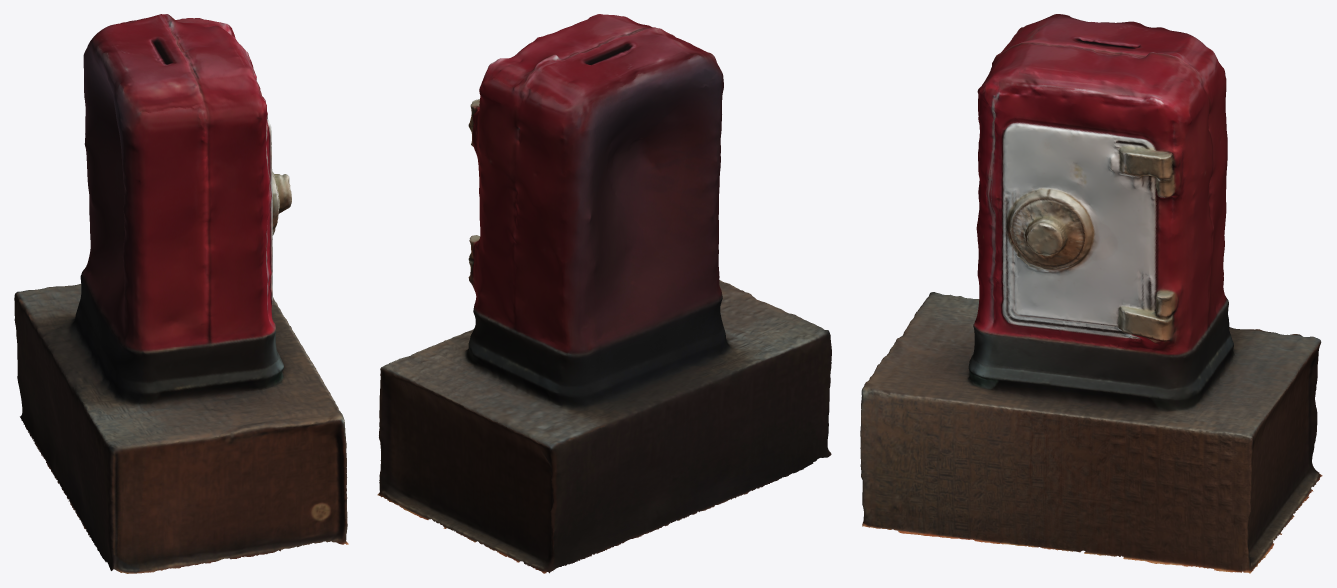
The model's file is hucha.glb.
3 views of the same model, side by side, from view 1: azimuth 30°, elevation 25°; view 2: azimuth 150°, elevation 25°; view 3: azimuth 270°, elevation 25° (orthographic). The views are drawn at different scales.
Visible parts, largest first — view 1: mainMeshNode; view 2: mainMeshNode; view 3: mainMeshNode.
Part boxes in pixels (x1,y1,x2,y2): mainMeshNode: [14, 14, 348, 573]; mainMeshNode: [377, 14, 831, 573]; mainMeshNode: [860, 14, 1322, 573].
Size of the model in its own units: 2.93 by 4.12 by 3.74.
1 material, 1 textured.
